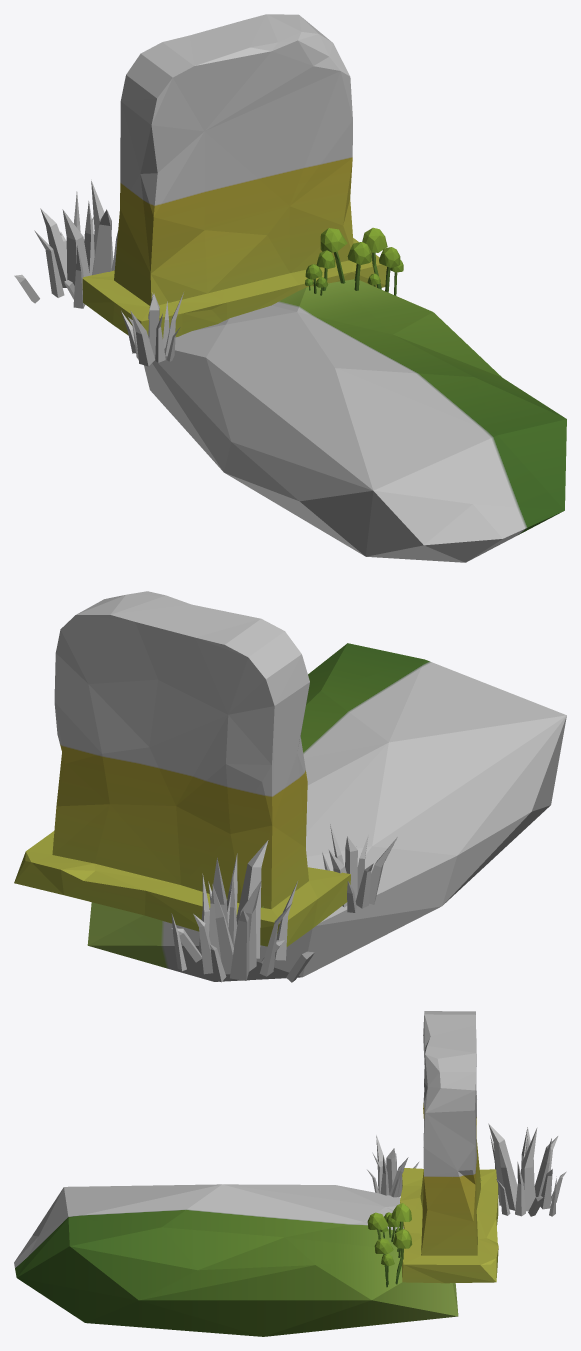
The model's file is Gravestone_04.fbx.
The picture shows the model from 3 angles, top to bottom: view 1: azimuth 30°, elevation 25°; view 2: azimuth 150°, elevation 25°; view 3: azimuth 270°, elevation 25°; orthographic projection. The views are drawn at different scales.
Parts seen in each view (by area): view 1: Gravestone_04; view 2: Gravestone_04; view 3: Gravestone_04.
Part boxes in pixels (box(x1,y1,x2,y2)): Gravestone_04: box(14, 14, 566, 562); Gravestone_04: box(14, 591, 566, 982); Gravestone_04: box(14, 1011, 566, 1336).
Size of the model in its own units: 2.55 by 2.9 by 5.19.
